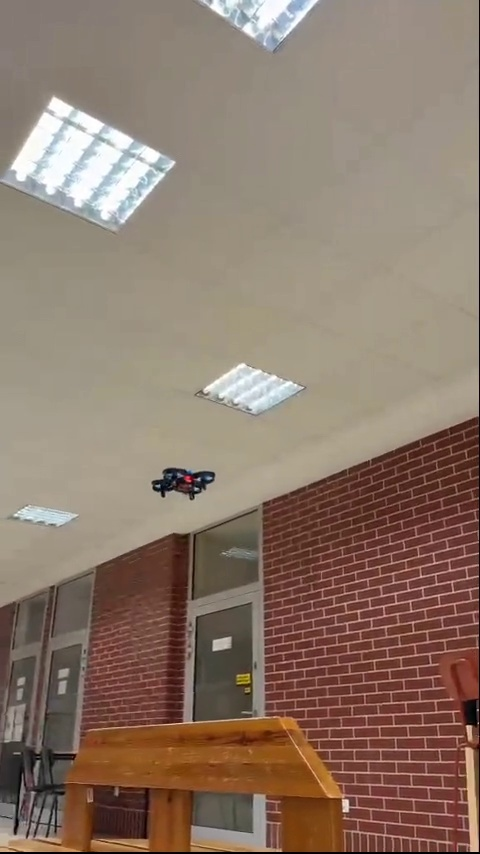drone: (146, 465, 222, 499)
